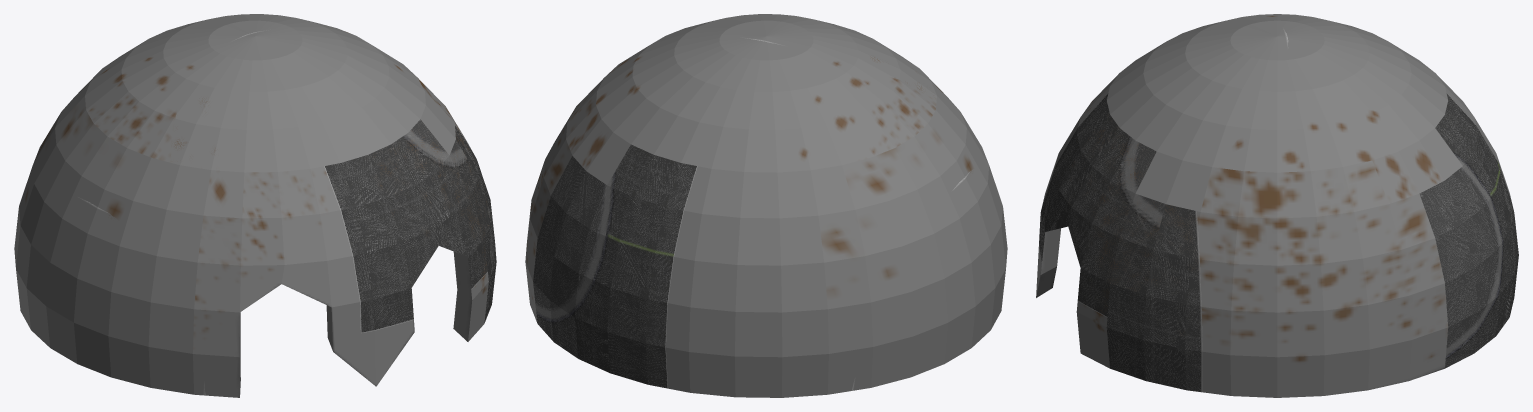
File: armor_bonus.fbx
3 views of the same model, side by side, from view 1: azimuth 30°, elevation 25°; view 2: azimuth 150°, elevation 25°; view 3: azimuth 270°, elevation 25° (orthographic).
Parts seen in each view (by area): view 1: Sphere; view 2: Sphere; view 3: Sphere.
Part boxes in pixels (x1,y1,x2,y2): Sphere: (14, 14, 496, 397); Sphere: (525, 14, 1007, 397); Sphere: (1036, 14, 1518, 397).
Size of the model in its own units: 215 by 128 by 215.
